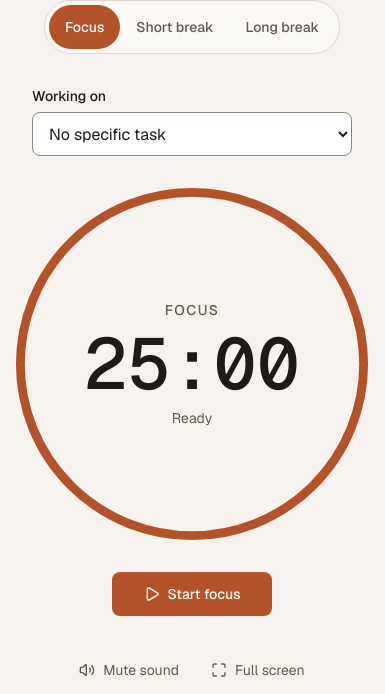
Test: Timer › starts the selected session type with the chosen task
Expected: the text with test id "clock" reads "25:00", [84,317,300,410]
Select "Essay" in the dropdown labelled "Working on": (192, 134) [32,112,352,156]
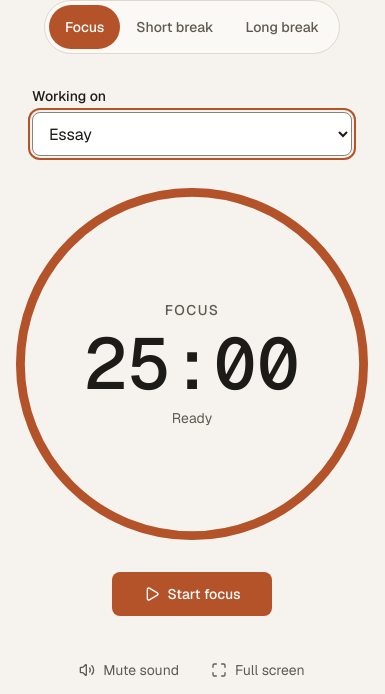
Click the button "Start focus": click(192, 594) [112,572,272,616]
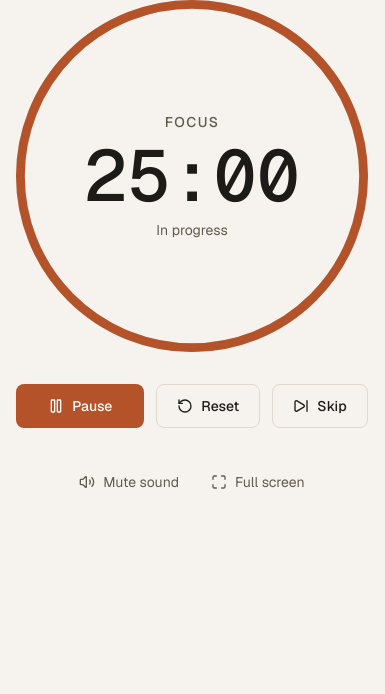
Result: the button "Pause" is shown at [16,384,144,428]
